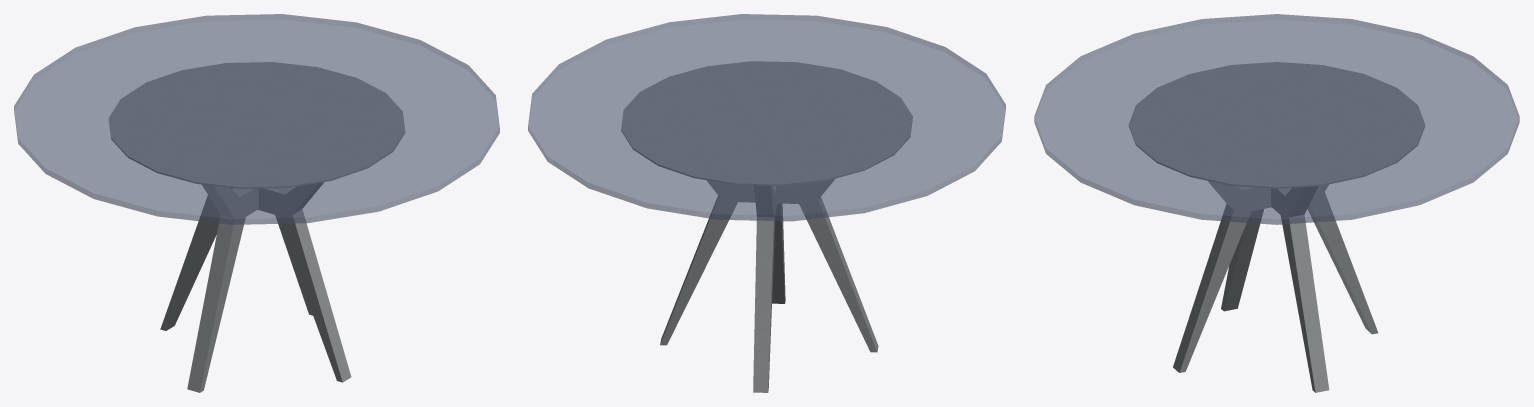
File: glassTable.fbx
3 renders of one model, left to right at view 1: azimuth 30°, elevation 25°; view 2: azimuth 150°, elevation 25°; view 3: azimuth 270°, elevation 25°, orthographic.
Visible parts, largest first — view 1: glass2, tableLegs; view 2: glass2, tableLegs; view 3: glass2, tableLegs.
Part boxes in pixels (bbox=[...]): glass2: bbox=[14, 14, 499, 224]; tableLegs: bbox=[109, 62, 404, 392]; glass2: bbox=[528, 14, 1005, 221]; tableLegs: bbox=[621, 61, 912, 392]; glass2: bbox=[1034, 14, 1519, 224]; tableLegs: bbox=[1129, 62, 1424, 392].
Bounding box in the file's own units: 169 × 90.22 × 169.
